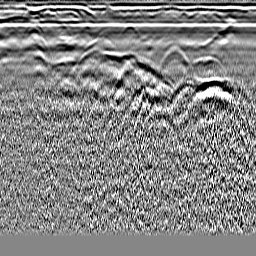cavity: (122, 23, 137, 36)
